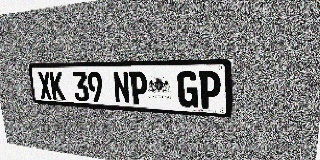3: (72, 71, 89, 102)
9: (87, 71, 104, 103)
G: (177, 71, 198, 108)
K: (49, 71, 65, 100)
N: (112, 71, 131, 104)
P: (199, 71, 221, 109), (129, 71, 148, 105)
X: (37, 72, 53, 100)
